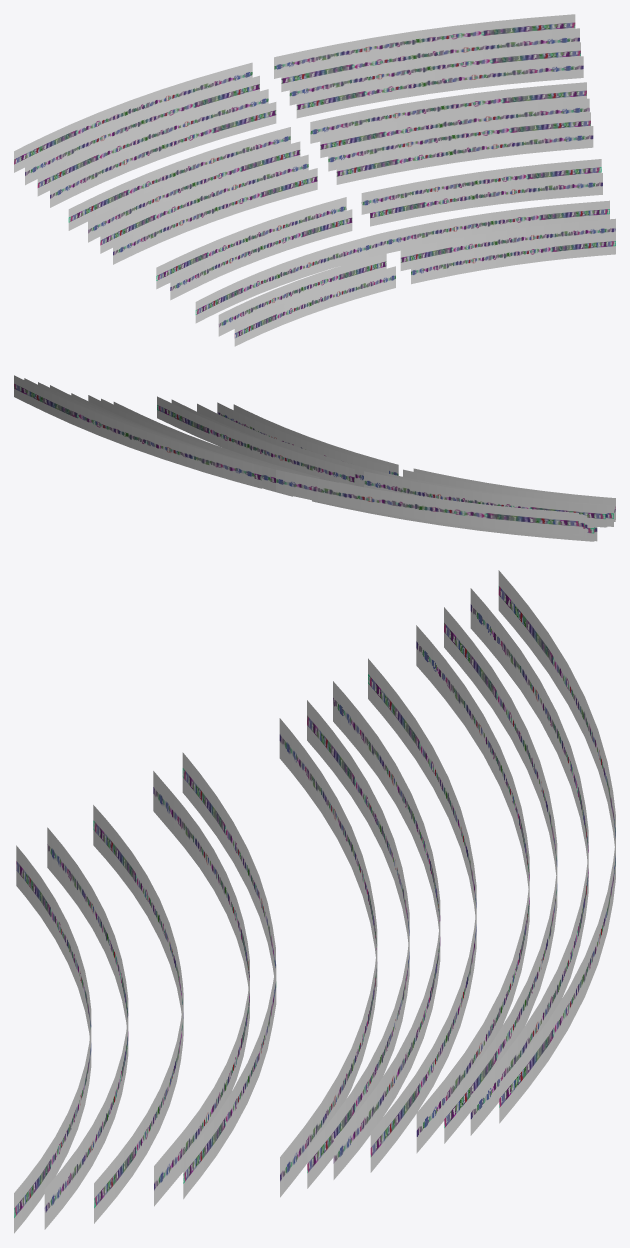
File: stand_viewers_002.fbx
The picture shows the model from 3 angles, top to bottom: view 1: azimuth 30°, elevation 25°; view 2: azimuth 150°, elevation 25°; view 3: azimuth 270°, elevation 25°; orthographic projection. The views are drawn at different scales.
Parts seen in each view (by area): view 1: stand_viewers_002; view 2: stand_viewers_002; view 3: stand_viewers_002.
Boxes of the visible parts, x1,y1,x2,y2 form: stand_viewers_002: (14,14,615,346); stand_viewers_002: (14,375,615,541); stand_viewers_002: (14,570,615,1233).
Bounding box in the file's own units: 22720 × 11262 × 4786.
